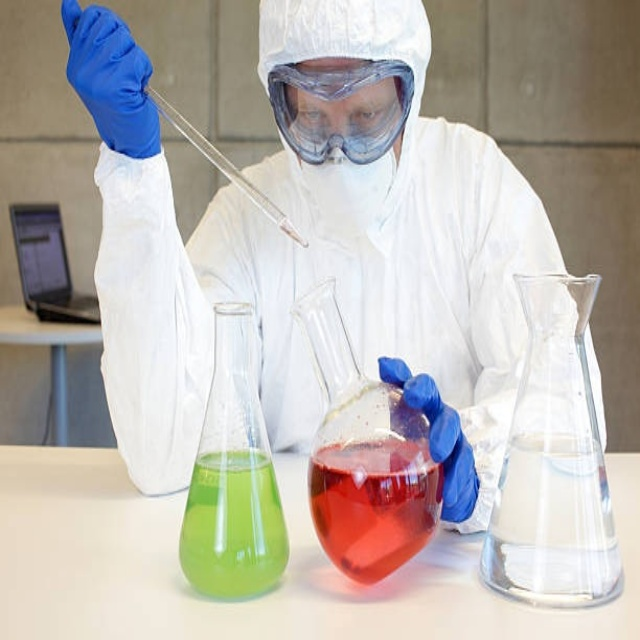Gafas: (268, 58, 416, 167)
Guantes: (378, 357, 479, 525), (60, 1, 160, 160)
Mascara: (298, 133, 398, 242)
